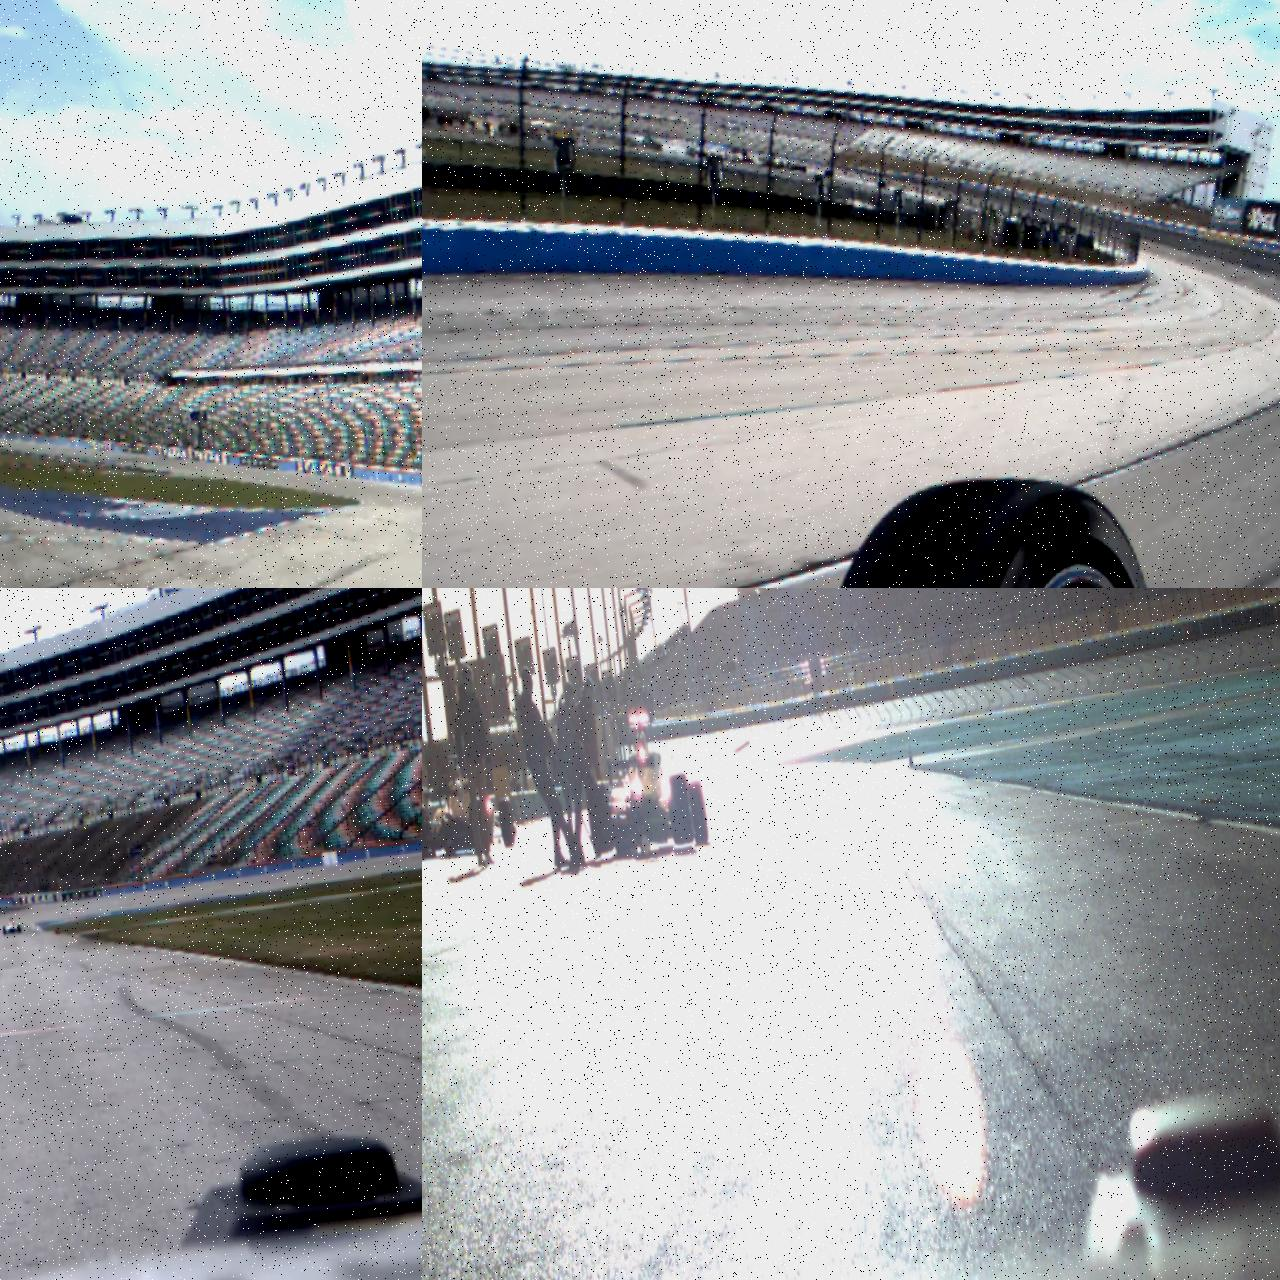AV: (578, 708, 710, 858), (422, 748, 518, 860), (2, 916, 22, 934)
Wheel: (786, 461, 1199, 588), (586, 783, 614, 854), (668, 774, 694, 845), (688, 782, 711, 847), (467, 798, 491, 853), (498, 796, 516, 848), (422, 808, 433, 860), (18, 924, 21, 934), (4, 926, 6, 934)
